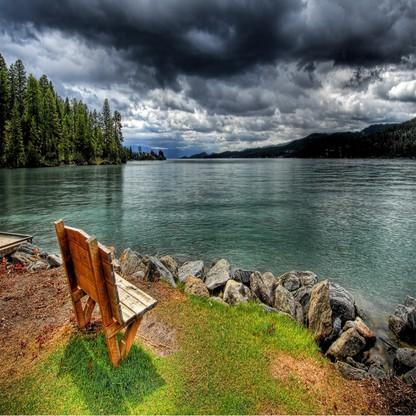obstacle: (44, 209, 161, 372)
